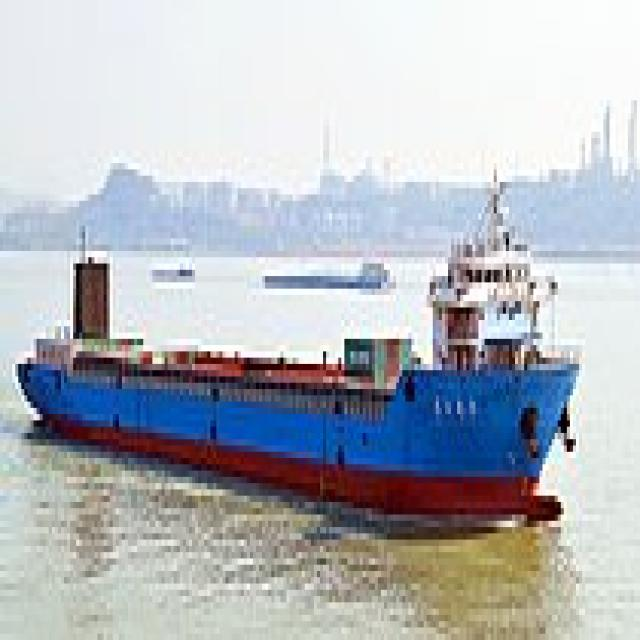Cargo: (9, 151, 582, 527)
